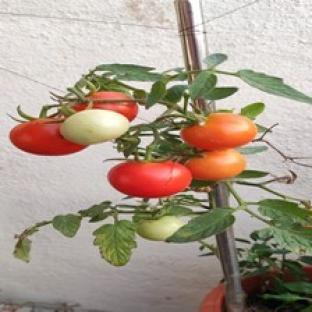Tomato: (108, 161, 192, 197), (182, 113, 257, 150), (10, 119, 86, 155), (60, 109, 129, 144), (186, 150, 246, 181), (88, 91, 137, 121), (137, 216, 185, 240)
